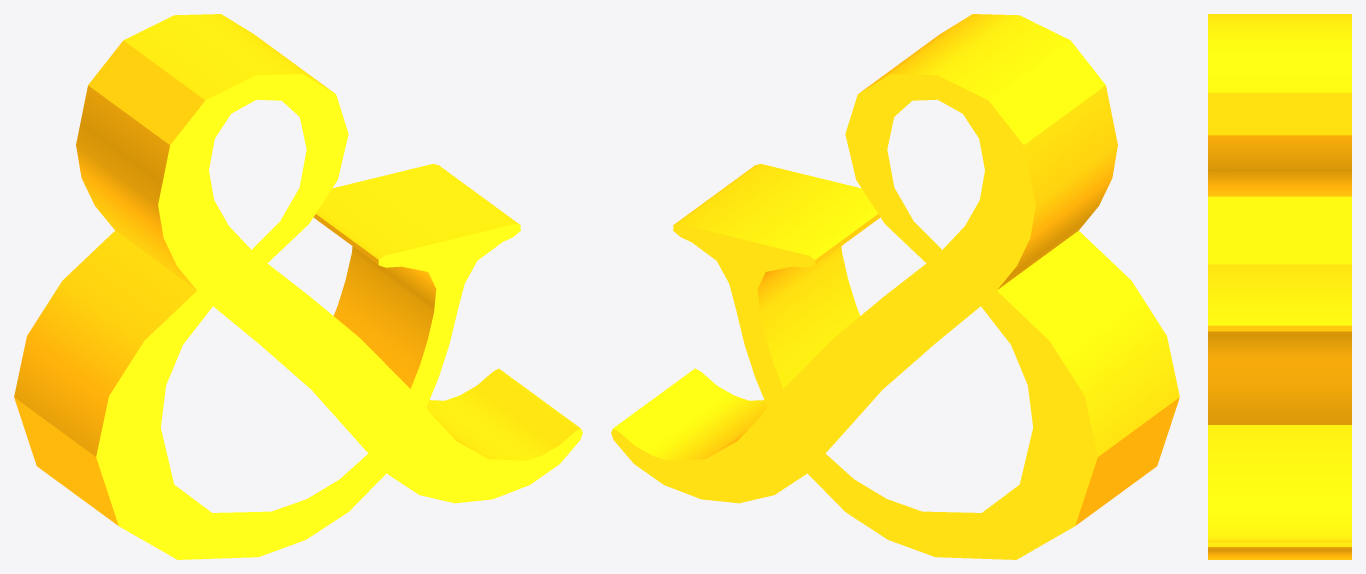
Rendered from 9271fcd1-52d1-480f-904e-30f42654c5b7.glb.
3 views of the same model, side by side, from view 1: azimuth 30°, elevation 25°; view 2: azimuth 150°, elevation 25°; view 3: azimuth 270°, elevation 25° (orthographic). The views are drawn at different scales.
Visible parts, largest first — view 1: &_Soul_Yellow; view 2: &_Soul_Yellow; view 3: &_Soul_Yellow.
Part boxes in pixels (left/top/right/bottom): &_Soul_Yellow: left=14, top=14, right=582, bottom=559; &_Soul_Yellow: left=611, top=14, right=1179, bottom=559; &_Soul_Yellow: left=1208, top=14, right=1351, bottom=559.
Size of what is drawn, in the model's own units: 0.1541 by 0.1459 by 0.045.
2 materials, 2 textured.
